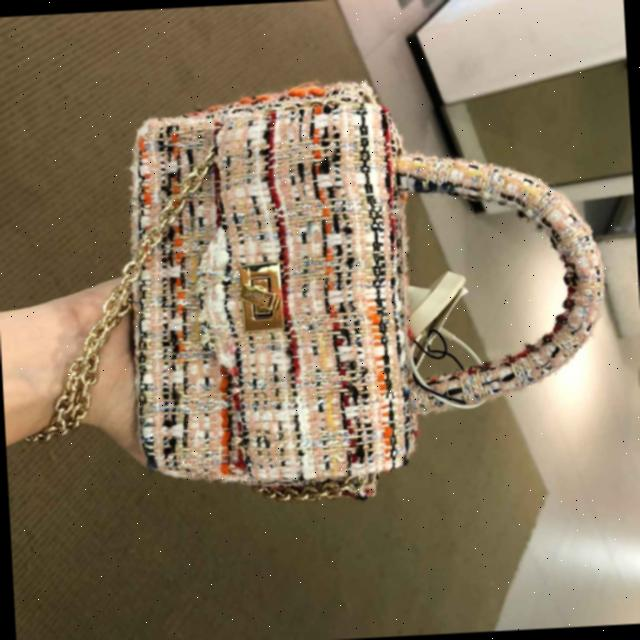handbag: (118, 77, 476, 509)
